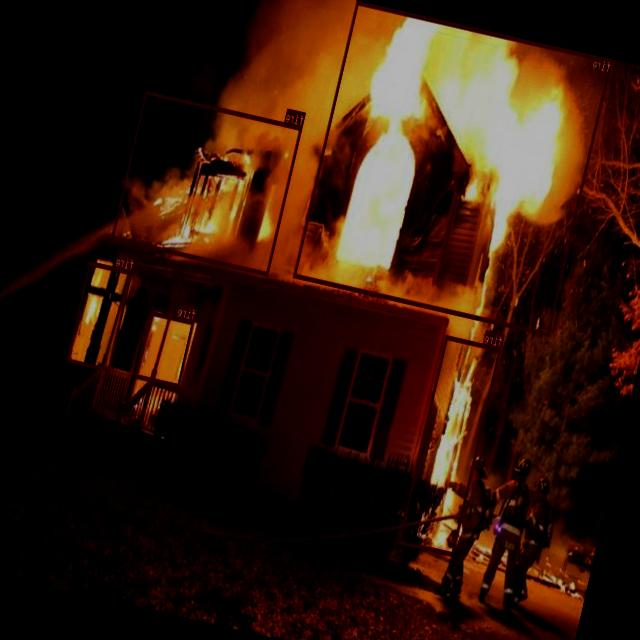fire: (292, 0, 612, 336), (111, 90, 302, 275), (398, 334, 502, 556), (66, 260, 133, 370), (136, 310, 194, 386)
